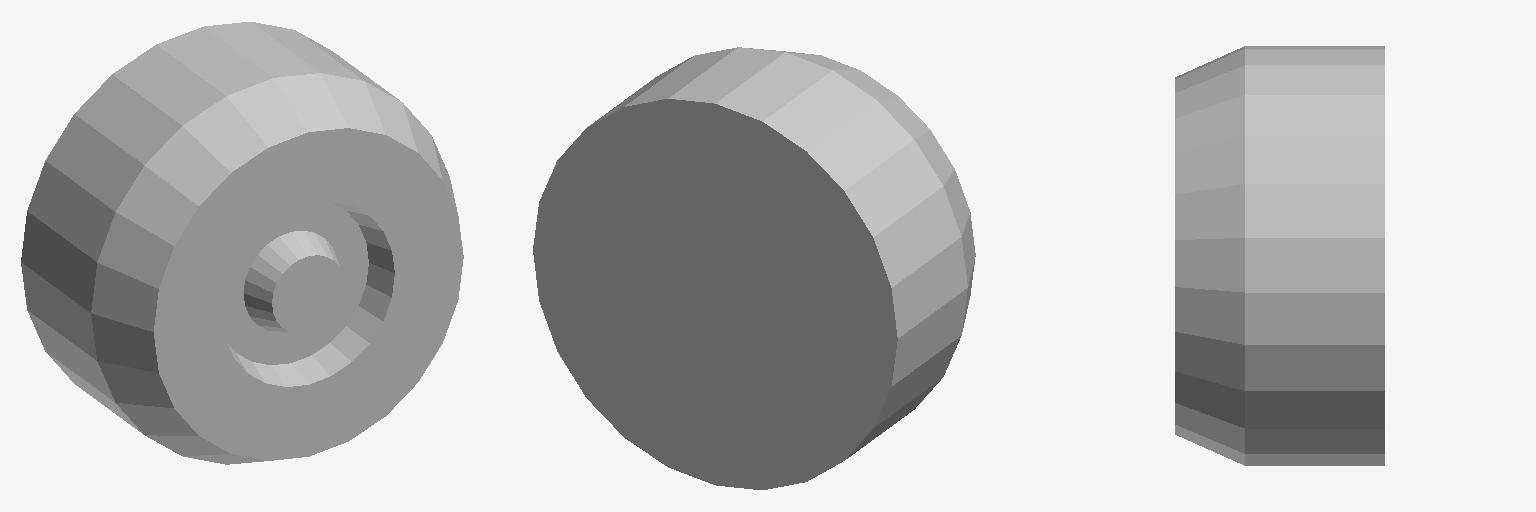
The model's file is wheelTractorDarkBack.obj.
3 renders of one model, left to right at view 1: azimuth 30°, elevation 25°; view 2: azimuth 150°, elevation 25°; view 3: azimuth 270°, elevation 25°, orthographic.
Parts seen in each view (by area): view 1: wheelTractorDarkBack; view 2: wheelTractorDarkBack; view 3: wheelTractorDarkBack.
Boxes of the visible parts, x1,y1,x2,y2 form: wheelTractorDarkBack: [21, 22, 463, 464]; wheelTractorDarkBack: [533, 47, 975, 489]; wheelTractorDarkBack: [1175, 46, 1384, 465].
Size of the model in its own units: 0.6564 by 0.6564 by 0.3282.